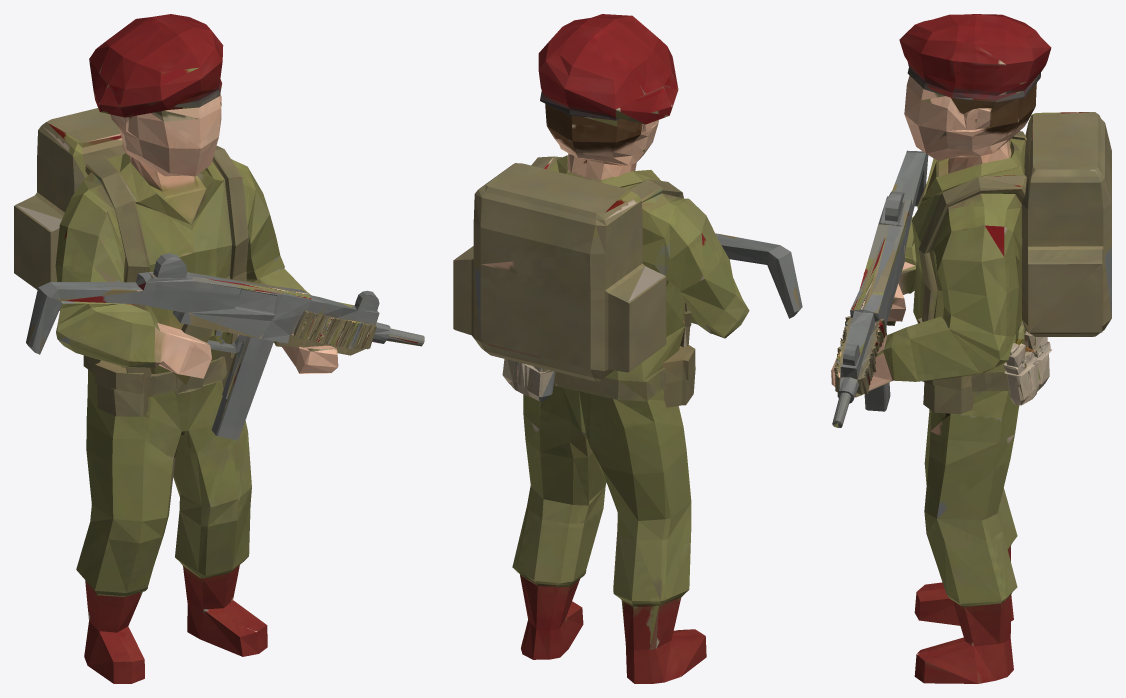
File: golan73_israeli_airborne_0.glb
3 renders of one model, left to right at view 1: azimuth 30°, elevation 25°; view 2: azimuth 150°, elevation 25°; view 3: azimuth 270°, elevation 25°, orthographic.
Visible parts, largest first — view 1: geometry_0; view 2: geometry_0; view 3: geometry_0.
Boxes of the visible parts, box(x1,y1,x2,y2) form: geometry_0: box(14, 14, 424, 683); geometry_0: box(453, 14, 802, 683); geometry_0: box(831, 14, 1111, 683).
Bounding box in the file's own units: 0.1944 × 0.324 × 0.1306.
1 material, 1 textured.
